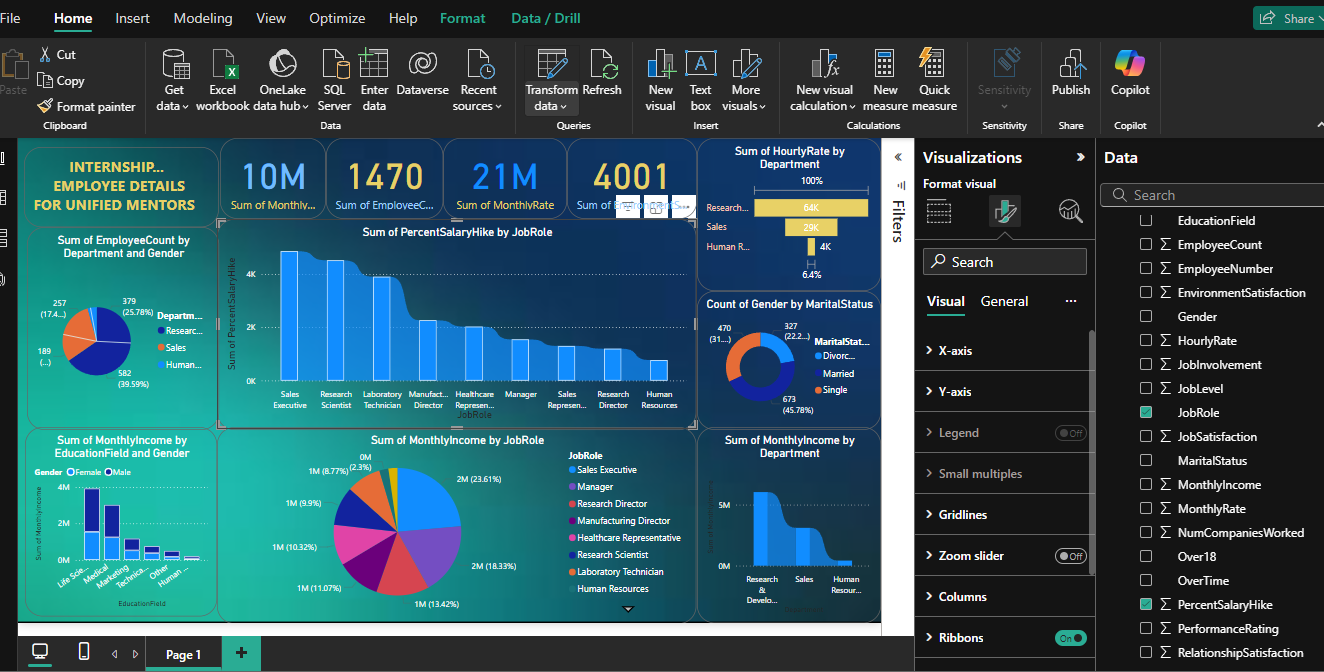

What the dashboard file says about the page in this screenshot:
{"tool":"powerbi","page":{"name":"Page 1","canvas":[1280,720],"ordinal":0},"visuals":[{"type":"pieChart","fields":{"Category":["greendestination (1).Department"],"Series":["greendestination (1).Gender"],"Y":["Sum(greendestination (1).EmployeeCount)"]},"box":[13.3,132,284.8,301.1],"z":0},{"type":"pieChart","fields":{"Category":["greendestination (1).JobRole"],"Y":["Sum(greendestination (1).MonthlyIncome)"]},"box":[295.9,428.1,711.3,291.7],"z":1000},{"type":"ribbonChart","fields":{"Y":["Sum(greendestination (1).PercentSalaryHike)"],"Category":["greendestination (1).JobRole"]},"box":[295.9,119.6,711.3,312.7],"z":2000},{"type":"lineStackedColumnComboChart","fields":{"Y":["Sum(greendestination (1).MonthlyIncome)"],"Category":["greendestination (1).EducationField"],"Series":["greendestination (1).Gender"]},"box":[10.5,428.1,285.4,281.2],"z":3000},{"type":"card","fields":{"Values":["Sum(greendestination (1).MonthlyIncome)"]},"box":[299.6,0,157.2,120.1],"z":4000},{"type":"card","fields":{"Values":["Sum(greendestination (1).EmployeeCount)"]},"box":[456.8,0,173.5,120.1],"z":5000},{"type":"textbox","box":[8.9,13.3,289.2,118.7],"z":6000},{"type":"donutChart","fields":{"Series":["greendestination (1).MaritalStatus"],"Y":["CountNonNull(greendestination (1).Gender)"]},"box":[1007.1,226.9,272.9,206.2],"z":7000},{"type":"ribbonChart","fields":{"Category":["greendestination (1).Department"],"Y":["Sum(greendestination (1).MonthlyIncome)"]},"box":[1007.1,428.6,272.9,290.7],"z":7001},{"type":"card","fields":{"Values":["Sum(greendestination (1).MonthlyRate)"]},"box":[630.4,0,183.9,120.1],"z":7002},{"type":"funnel","fields":{"Category":["greendestination (1).Department"],"Y":["Sum(greendestination (1).HourlyRate)"]},"box":[1007.1,0,272.9,226.9],"z":7003},{"type":"card","fields":{"Values":["Sum(greendestination (1).EnvironmentSatisfaction)"]},"box":[814.3,0,192.8,120.1],"z":7004}]}

Visuals, with their boxes on the page's 1280x720 design canvas (x1, y1, x2, y2). These are canvas units, not pixel positions in the 1324x672 screenshot, which may show the page scaled, cropped or inside an application window:
pieChart - greendestination (1).Department x greendestination (1).Gender: box(13, 132, 298, 433)
pieChart - greendestination (1).JobRole x Sum(greendestination (1).MonthlyIncome): box(296, 428, 1007, 720)
ribbonChart - Sum(greendestination (1).PercentSalaryHike) x greendestination (1).JobRole: box(296, 120, 1007, 432)
lineStackedColumnComboChart - Sum(greendestination (1).MonthlyIncome) x greendestination (1).EducationField: box(10, 428, 296, 709)
card - Sum(greendestination (1).MonthlyIncome): box(300, 0, 457, 120)
card - Sum(greendestination (1).EmployeeCount): box(457, 0, 630, 120)
textbox: box(9, 13, 298, 132)
donutChart - greendestination (1).MaritalStatus x CountNonNull(greendestination (1).Gender): box(1007, 227, 1280, 433)
ribbonChart - greendestination (1).Department x Sum(greendestination (1).MonthlyIncome): box(1007, 429, 1280, 719)
card - Sum(greendestination (1).MonthlyRate): box(630, 0, 814, 120)
funnel - greendestination (1).Department x Sum(greendestination (1).HourlyRate): box(1007, 0, 1280, 227)
card - Sum(greendestination (1).EnvironmentSatisfaction): box(814, 0, 1007, 120)
